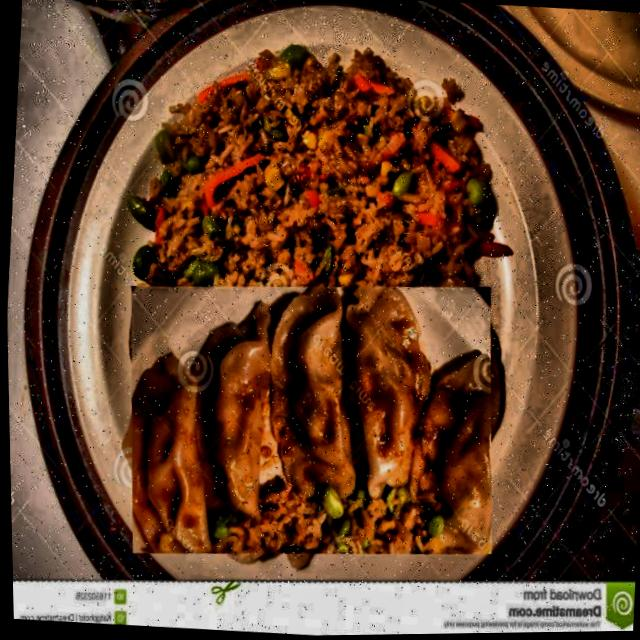Food: (110, 263, 509, 578)
